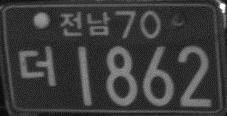0: (140, 9, 160, 40)
1: (75, 44, 94, 108)
2: (178, 43, 212, 108)
6: (141, 44, 175, 107)
7: (112, 8, 137, 40)
8: (105, 45, 138, 106)
더: (17, 45, 57, 86)
전남_O: (58, 10, 110, 36)
